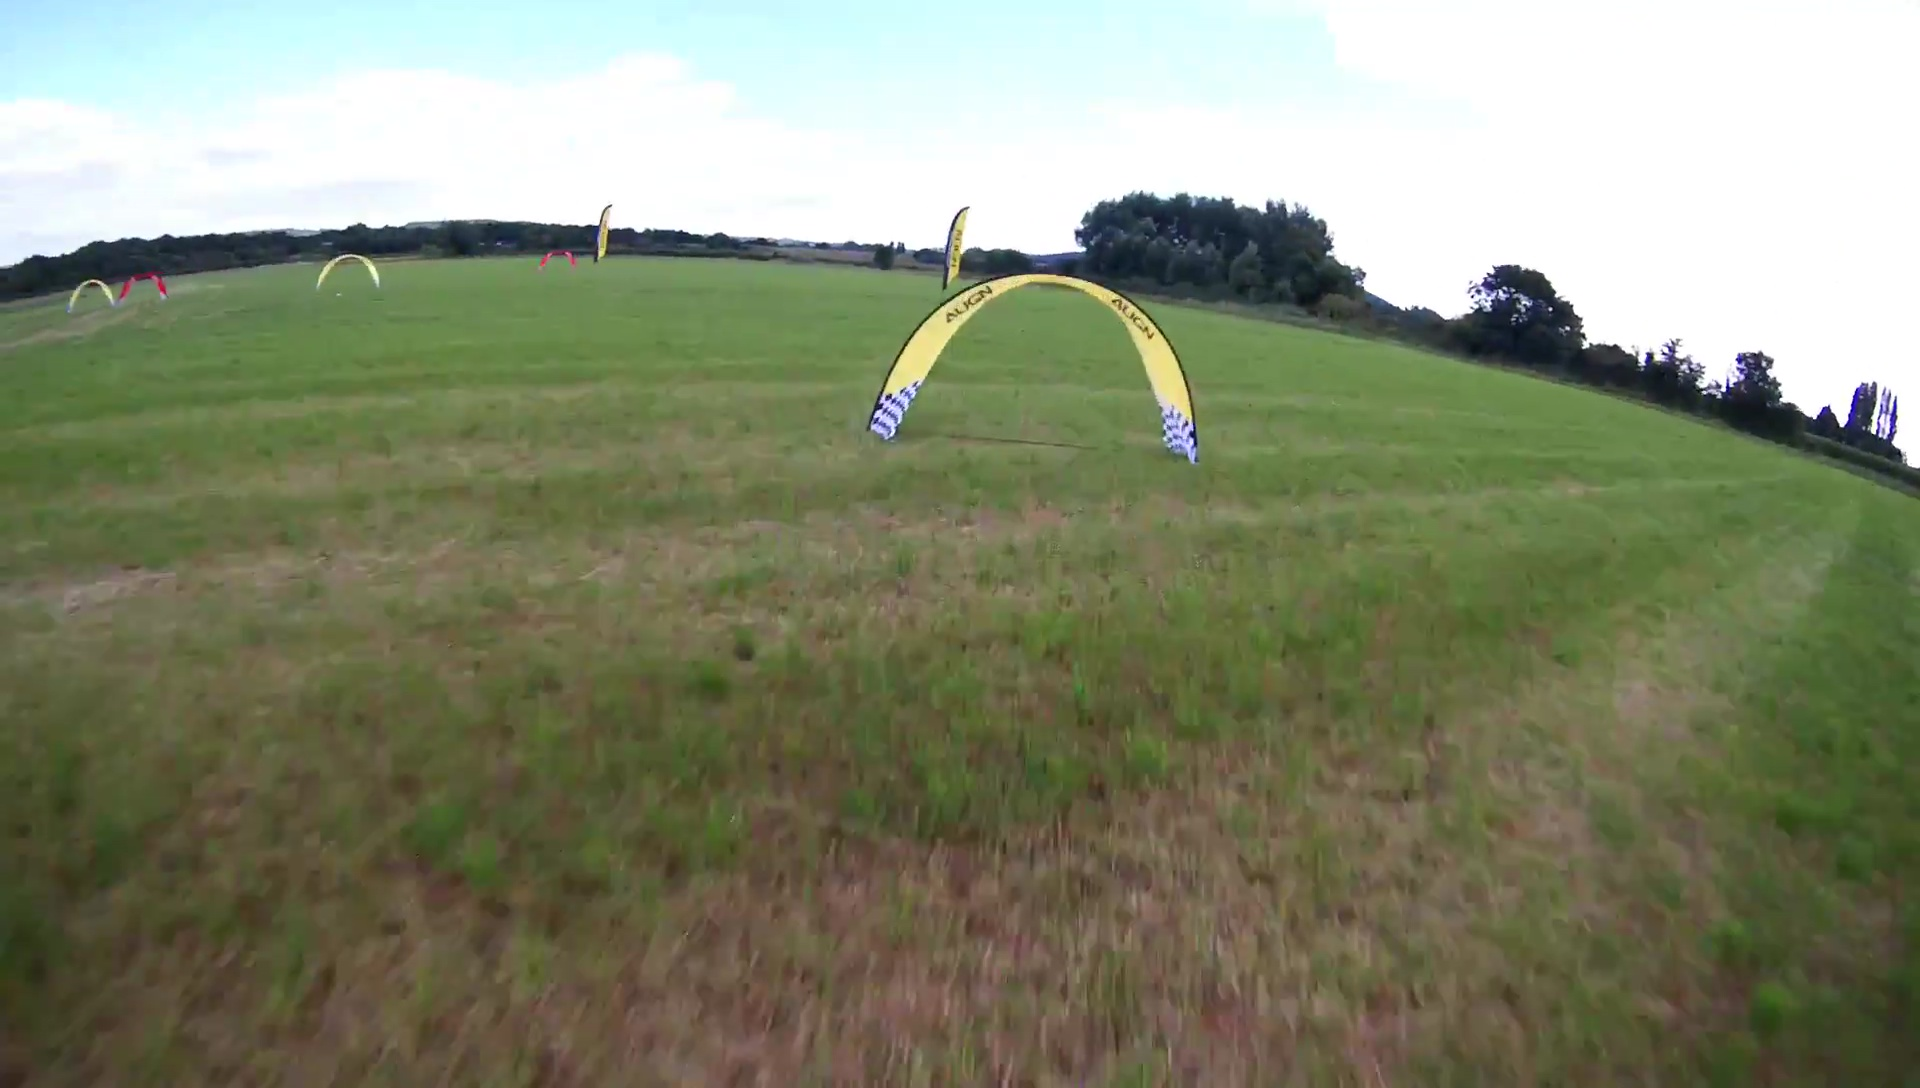gate: (866, 270, 1203, 463), (314, 252, 385, 287), (65, 276, 117, 317), (113, 270, 170, 302)
